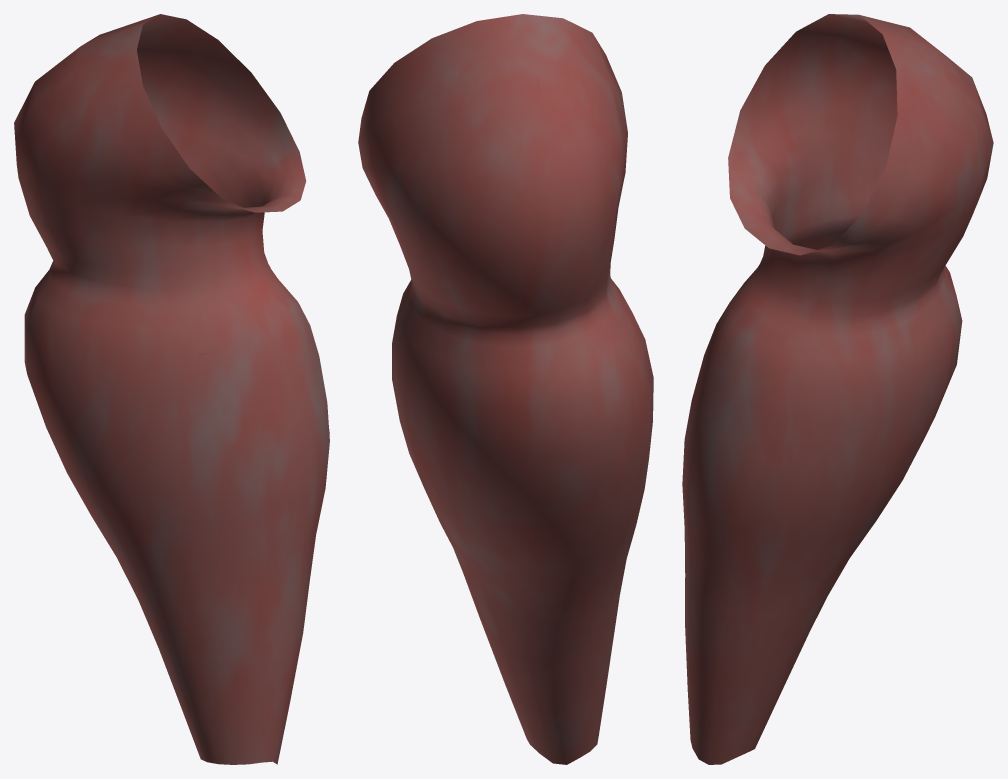
Rendered from rectum.glb.
3 renders of one model, left to right at view 1: azimuth 30°, elevation 25°; view 2: azimuth 150°, elevation 25°; view 3: azimuth 270°, elevation 25°, orthographic. The views are drawn at different scales.
Visible parts, largest first — view 1: rectum; view 2: rectum; view 3: rectum.
Boxes of the visible parts, x1=… form: rectum: x1=14, y1=14, x2=329, y2=764; rectum: x1=358, y1=14, x2=653, y2=764; rectum: x1=682, y1=14, x2=993, y2=764.
Bounding box in the file's own units: 0.2815 × 0.7649 × 0.2988.
Materials: 1 (1 with a texture image).
